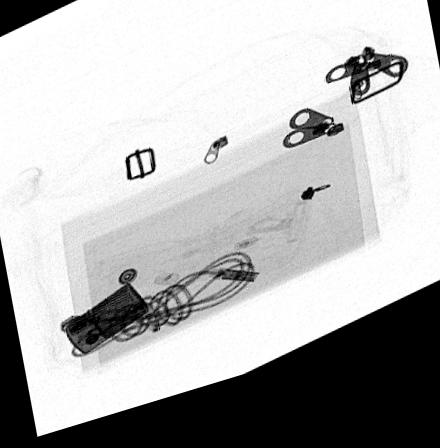Lighter: (64, 289, 147, 358)
